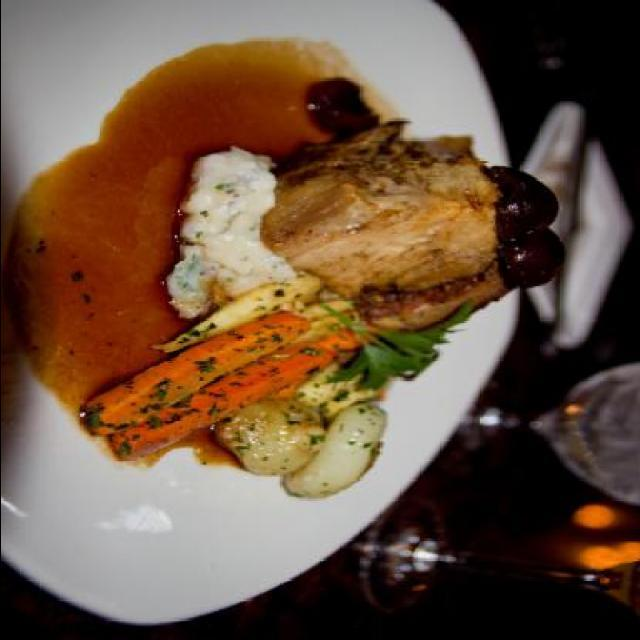Carrot: (108, 300, 306, 449)
